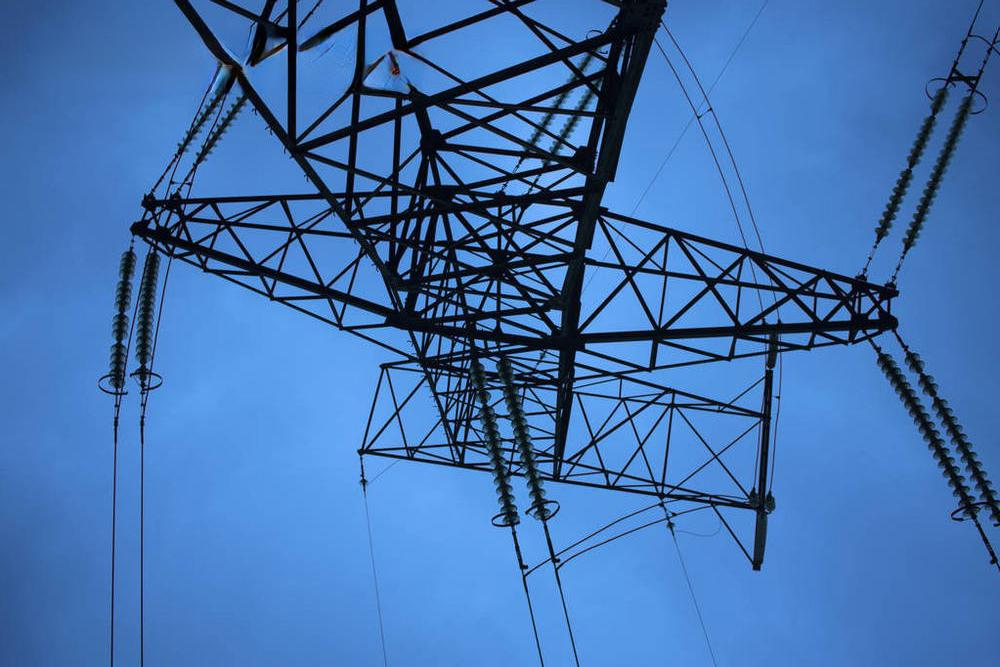insulator: (874, 351, 984, 521), (901, 348, 1000, 531), (871, 86, 953, 241), (900, 92, 980, 249), (467, 358, 522, 527), (492, 357, 550, 509), (525, 49, 598, 145), (106, 249, 139, 389), (193, 94, 250, 165), (174, 88, 229, 158), (547, 83, 600, 153), (134, 249, 163, 368)
insulator_stringdrop: (920, 381, 950, 414), (906, 358, 936, 389), (897, 153, 924, 183), (920, 102, 946, 130), (473, 388, 496, 418), (498, 370, 522, 398), (109, 327, 131, 355), (110, 300, 132, 325), (114, 270, 136, 291)
